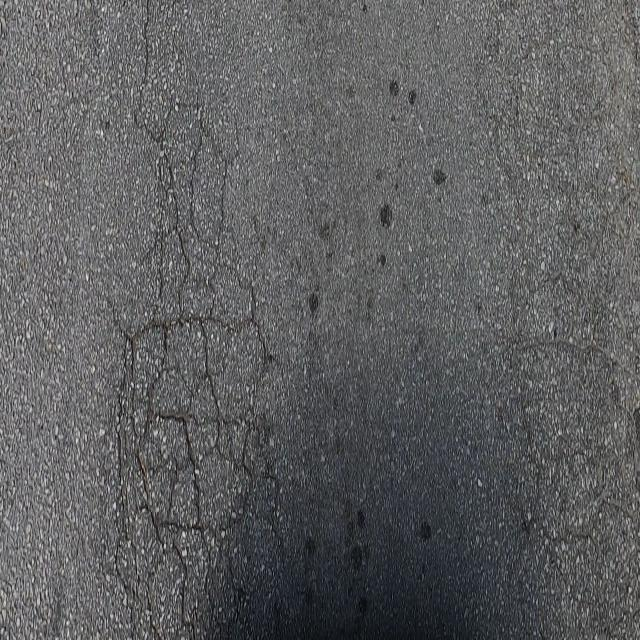Retak-Buaya: (108, 83, 287, 638), (473, 5, 638, 588)
Retak-Memanjang: (133, 2, 155, 117)
